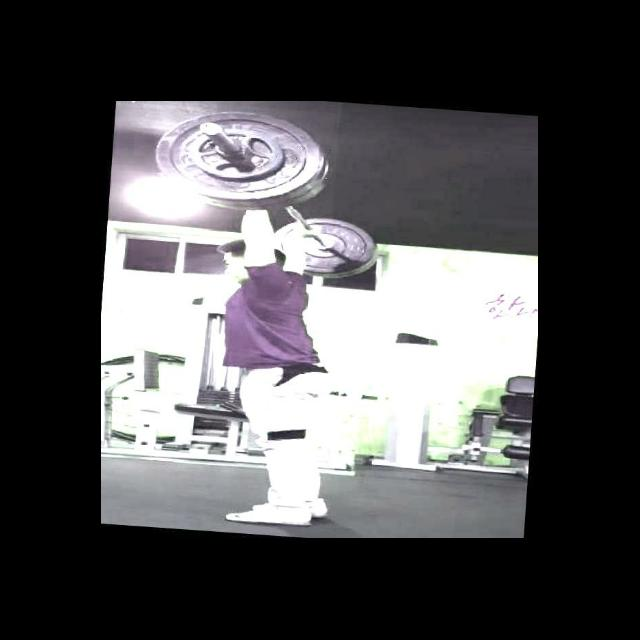barbell: (149, 101, 339, 219)
